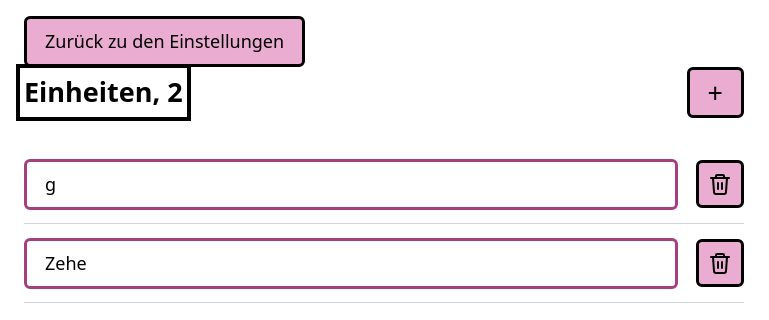
KnownUnitsArea › asks before deleting a unit
Click the button named "Löschen, Zehe" at (720, 263), box left=696, top=239, right=744, bottom=287
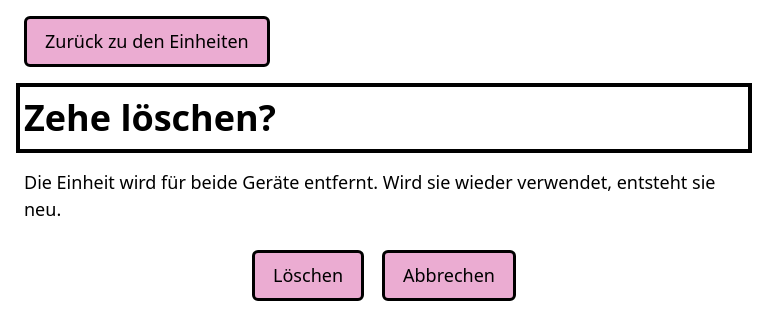
Check: the heading "Zehe löschen?" is shown, box left=24, top=93, right=276, bottom=142
Check: the text "Die Einheit wird für beide Geräte entfernt. Wird sie wieder verwendet, entsteht sie neu." is shown, box left=24, top=170, right=716, bottom=221
